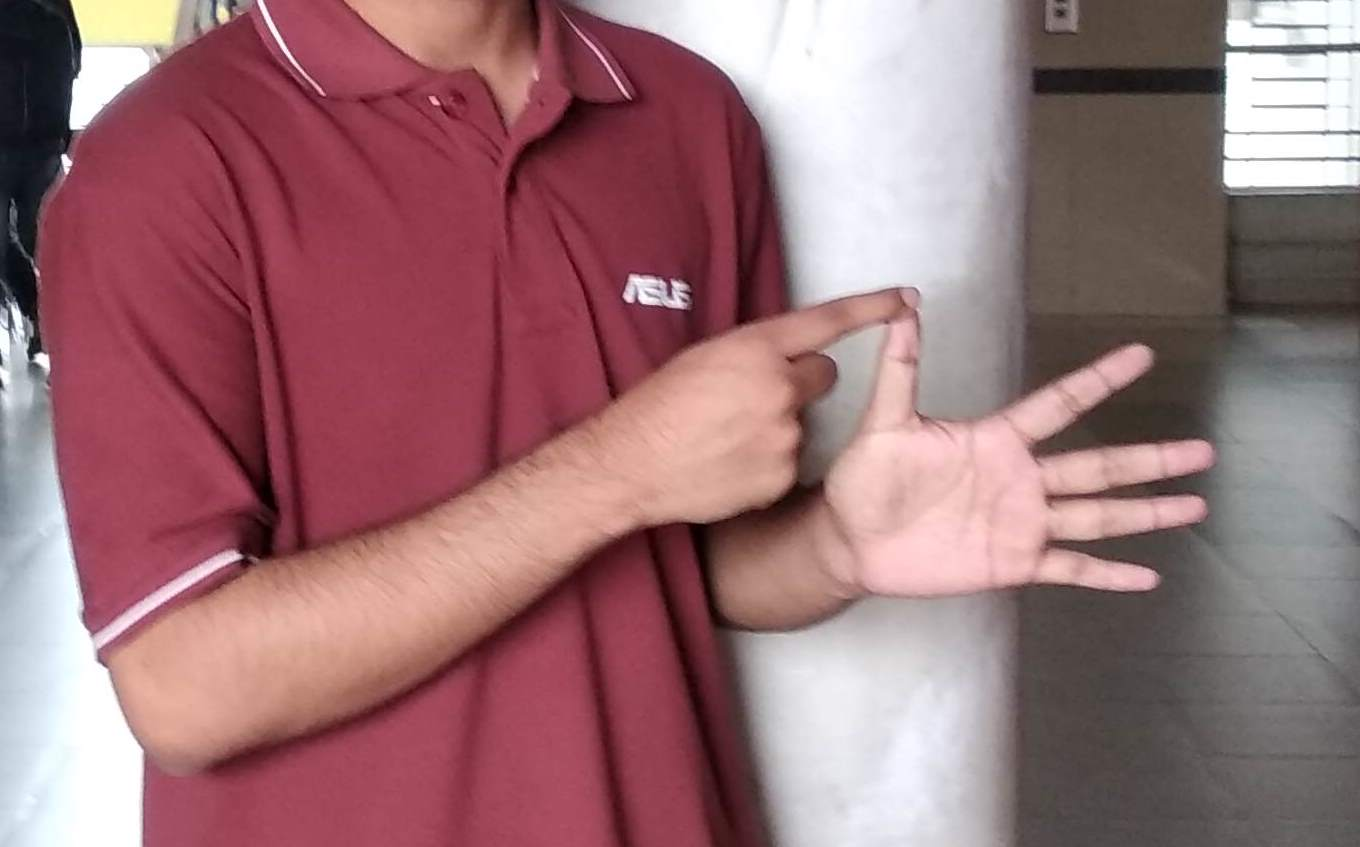a: (672, 283, 1194, 598)
